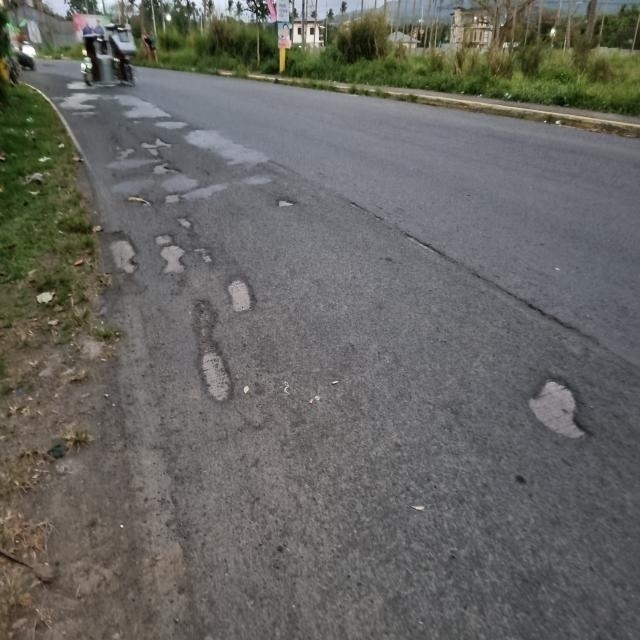pothole: (98, 132, 597, 550)
